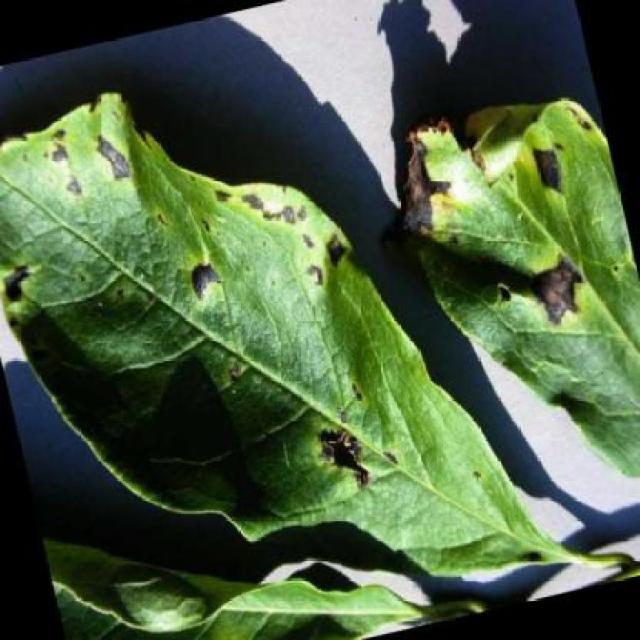Tomato leaf bacterial spot: (0, 34, 446, 600)
